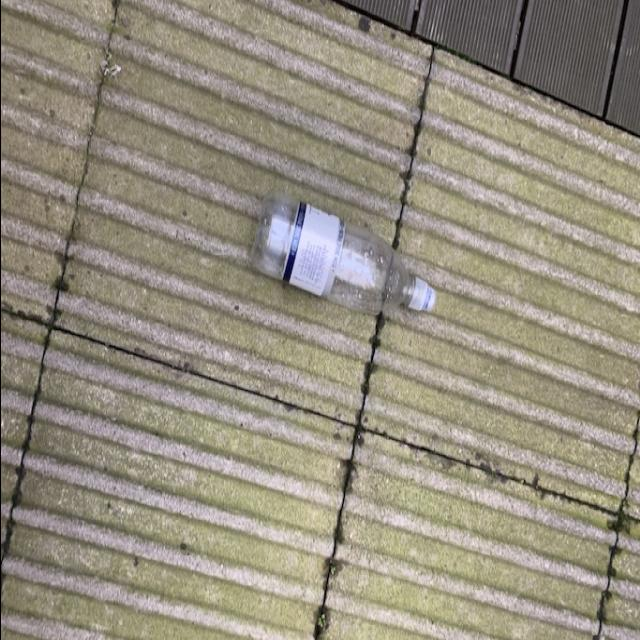litter: (246, 195, 436, 320)
